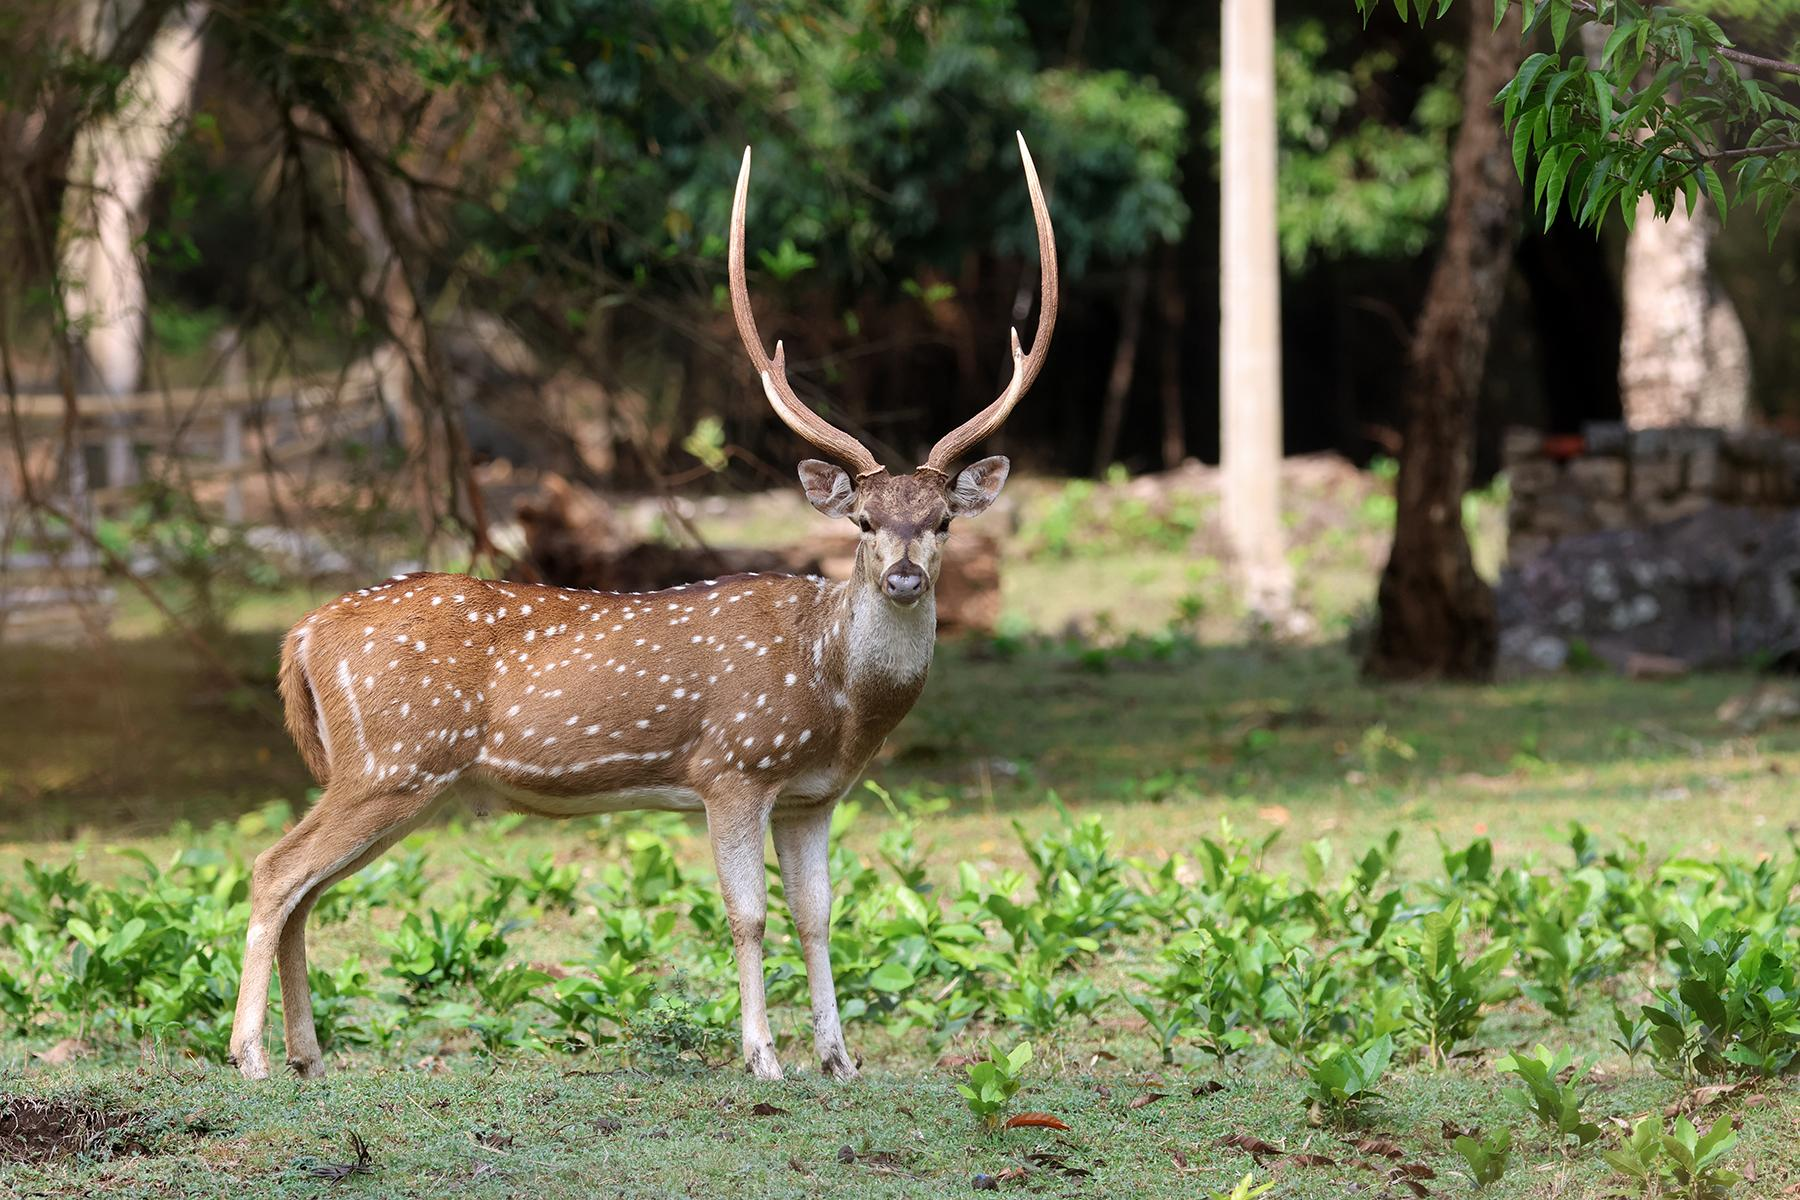Deer: (230, 150, 1055, 1079)
